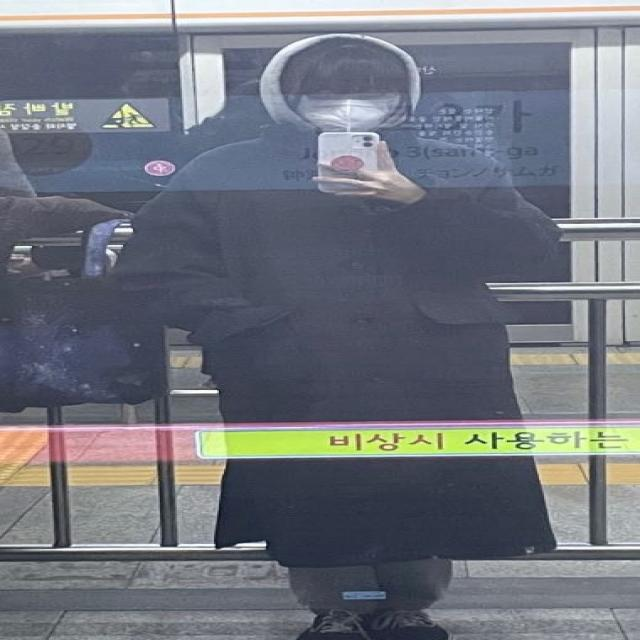coat: (110, 126, 571, 574), (260, 30, 421, 135)
trainingpants: (286, 556, 448, 614)
